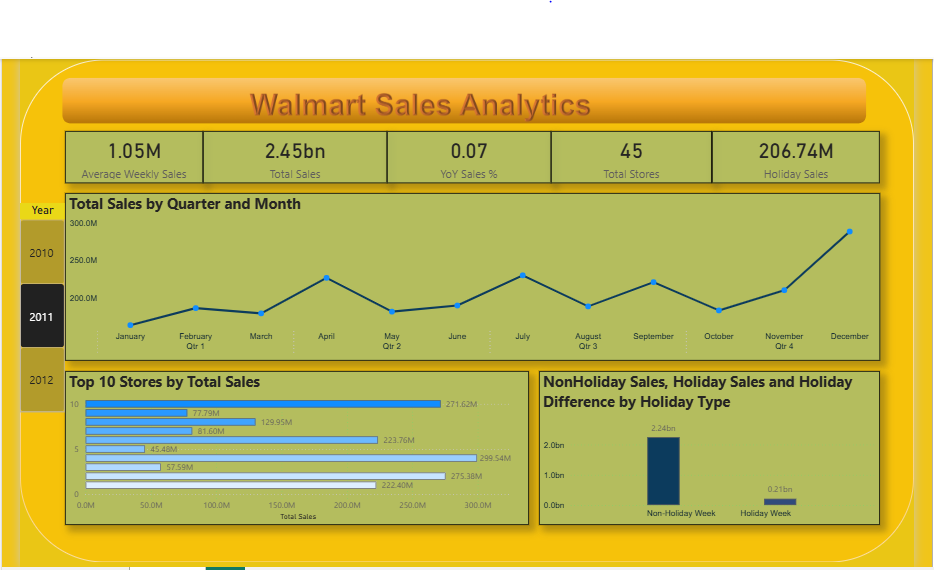

The page's visual inventory and layout, read from the dashboard file:
{"tool":"powerbi","page":{"name":"Page 1","canvas":[1300,710],"ordinal":0},"visuals":[{"type":"card","fields":{"Values":["Date.Average Weekly Sales"]},"box":[65.5,75.7,200.8,75.7],"z":0},{"type":"card","fields":{"Values":["Date.Total Sales"]},"box":[266.2,75.7,267.7,75.7],"z":1000},{"type":"card","fields":{"Values":["Date.YoY Sales %"]},"box":[534,75.7,238.6,75.7],"z":2000},{"type":"card","fields":{"Values":["Date.Total Stores"]},"box":[772.6,75.7,234.2,75.7],"z":3000},{"type":"card","fields":{"Values":["Date.Holiday Sales"]},"box":[1006.8,75.7,244.4,75.7],"z":4000},{"type":"lineChart","fields":{"Category":["Date.Date.Variation.Date Hierarchy.Quarter","Date.Date.Variation.Date Hierarchy.Month"],"Y":["Date.Total Sales"]},"box":[65.5,165.9,1185.8,244.4],"z":5000},{"type":"clusteredBarChart","title":"Top 10 Stores by Total Sales","fields":{"Category":["StoreSummary.Store"],"Y":["Sum(StoreSummary.TotalSales)"]},"box":[65.5,424.8,675.1,224.1],"z":6000},{"type":"clusteredColumnChart","fields":{"Category":["Sales.Holiday Type"],"Y":["Date.NonHoliday Sales","Date.Holiday Sales"]},"box":[755.1,424.8,496.1,224.1],"z":7000},{"type":"advancedSlicerVisual","fields":{"Values":["Date.Date.Variation.Date Hierarchy.Year"]},"box":[0,180.4,65.5,305.5],"z":7001}]}

Visuals, with their boxes in screenshot pixels (x1, y1, x2, y2):
card - Date.Average Weekly Sales: x1=64, y1=130, x2=201, y2=181
card - Date.Total Sales: x1=201, y1=130, x2=384, y2=181
card - Date.YoY Sales %: x1=384, y1=130, x2=547, y2=181
card - Date.Total Stores: x1=547, y1=130, x2=708, y2=181
card - Date.Holiday Sales: x1=708, y1=130, x2=875, y2=181
lineChart - Date.Date.Variation.Date Hierarchy.Quarter x Date.Date.Variation.Date Hierarchy.Month: x1=64, y1=191, x2=875, y2=358
"Top 10 Stores by Total Sales" clusteredBarChart: x1=64, y1=368, x2=526, y2=521
clusteredColumnChart - Sales.Holiday Type x Date.NonHoliday Sales: x1=536, y1=368, x2=875, y2=521
advancedSlicerVisual - Date.Date.Variation.Date Hierarchy.Year: x1=19, y1=201, x2=64, y2=410
